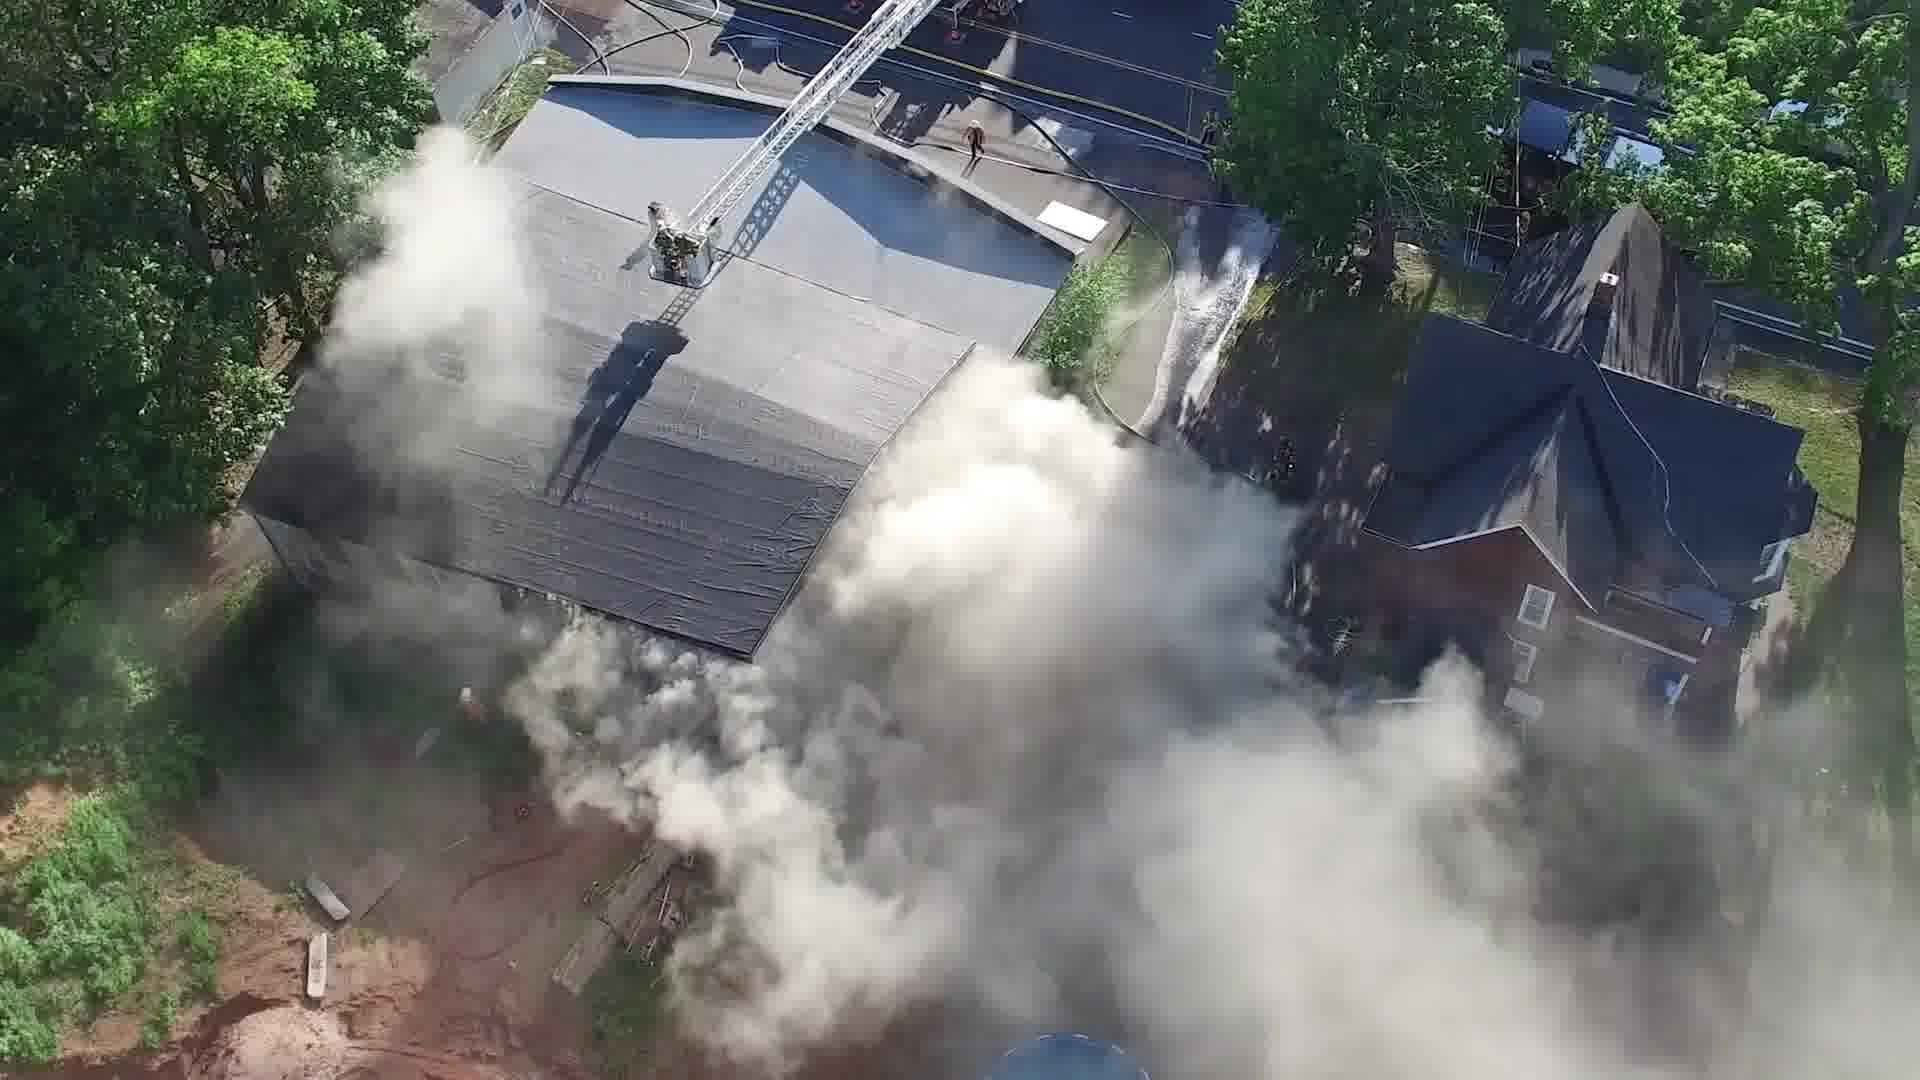smoke: (810, 574, 1404, 1050), (1450, 778, 1890, 1076), (346, 158, 498, 346)
